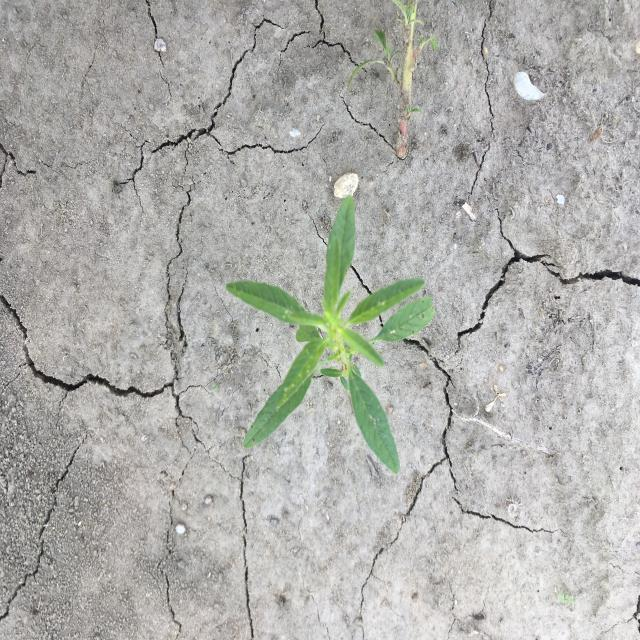Waterhemp: (224, 192, 438, 474)
